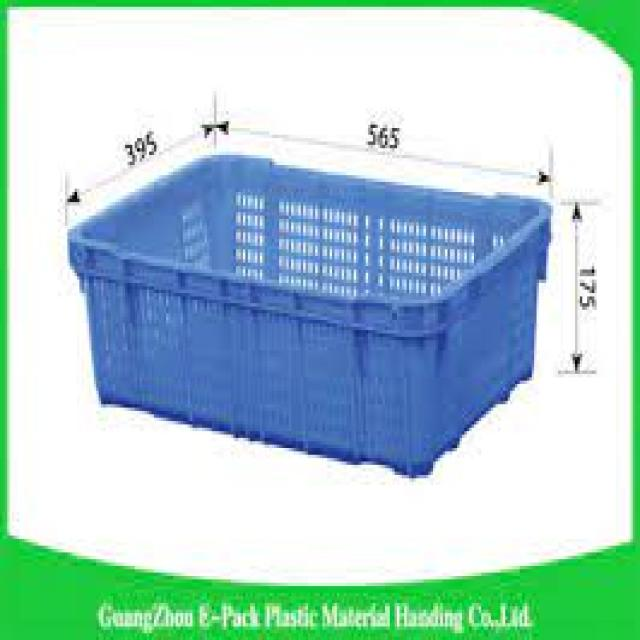basket: (43, 136, 559, 491)
